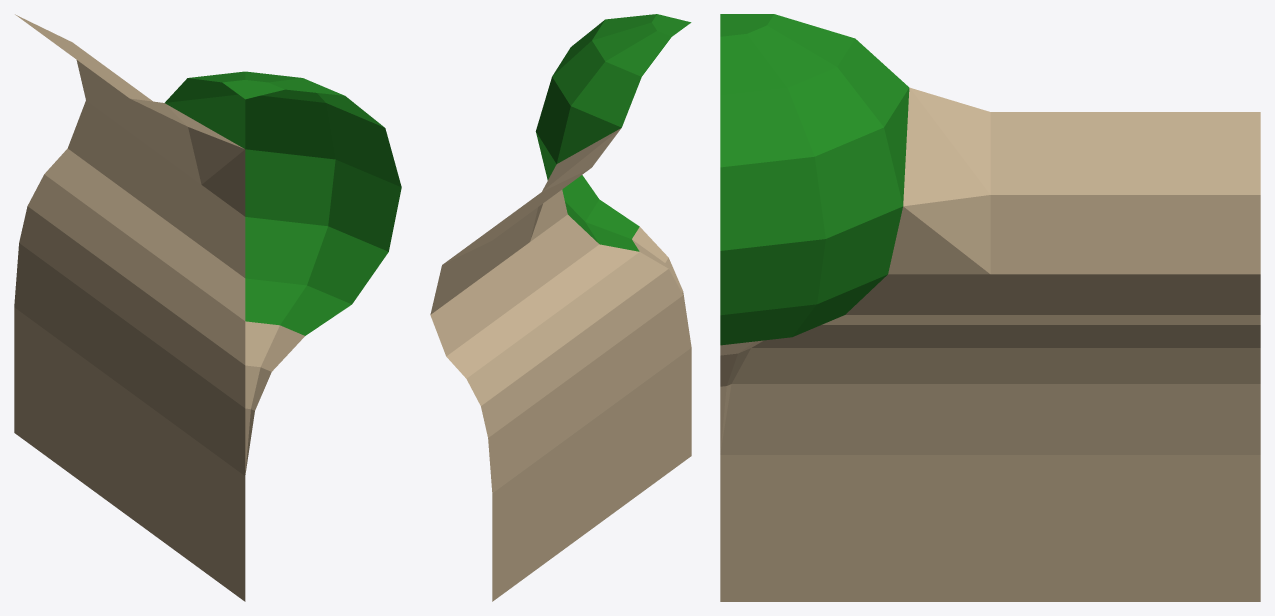
Rendered from Escarpment_Terrain_Side_Falloff_Edge.obj.
3 renders of one model, left to right at view 1: azimuth 30°, elevation 25°; view 2: azimuth 150°, elevation 25°; view 3: azimuth 270°, elevation 25°, orthographic. The views are drawn at different scales.
Visible parts, largest first — view 1: object1; view 2: object1; view 3: object1.
Boxes of the visible parts, x1,y1,x2,y2 form: object1: [14, 14, 401, 601]; object1: [430, 14, 691, 601]; object1: [720, 14, 1260, 601].
Size of the model in its own units: 0.3909 by 1.2 by 1.
